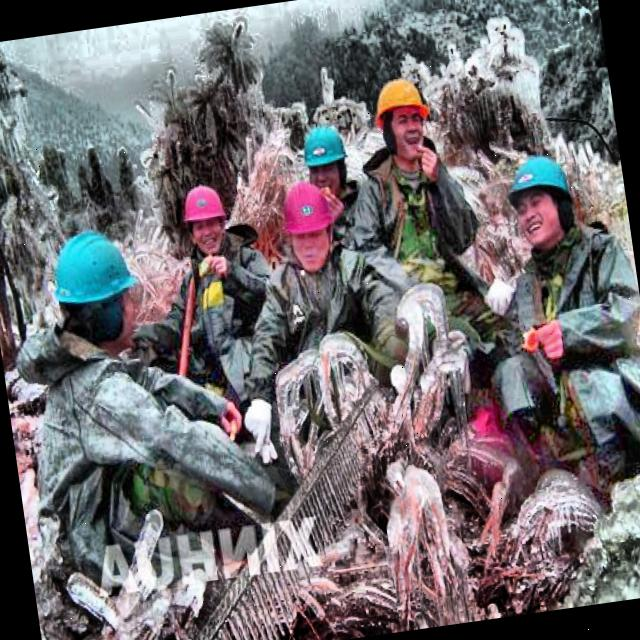helmet: (43, 217, 148, 351), (495, 140, 587, 262), (366, 66, 440, 168), (274, 172, 342, 274), (296, 119, 354, 200), (175, 176, 233, 253)
